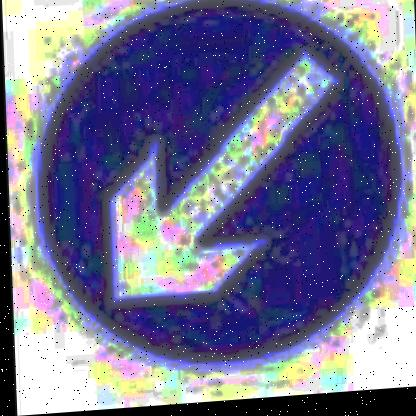Keep left: (24, 0, 408, 382)
